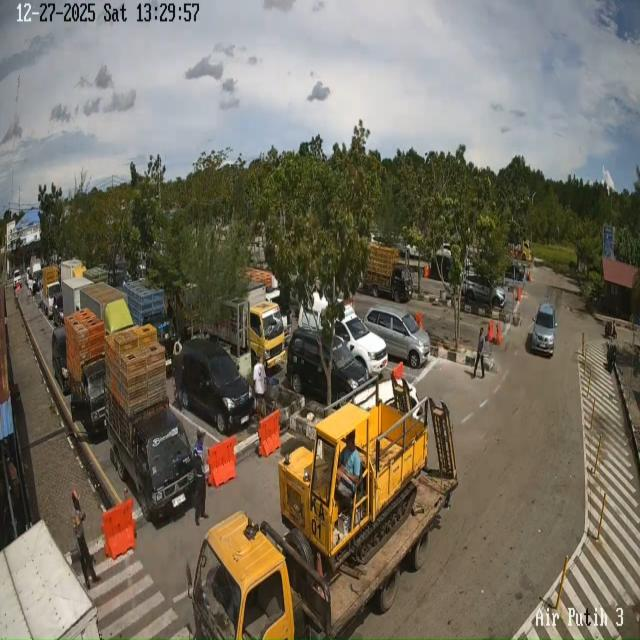Golongan IVA: (174, 338, 254, 434), (298, 293, 388, 377), (287, 327, 369, 401), (364, 304, 431, 368), (462, 272, 506, 308), (530, 302, 558, 356), (51, 326, 70, 395)
Golongan IVB: (108, 399, 203, 524), (63, 343, 118, 447), (363, 242, 413, 303)
Golongan VB: (187, 399, 458, 640), (202, 281, 286, 368)
